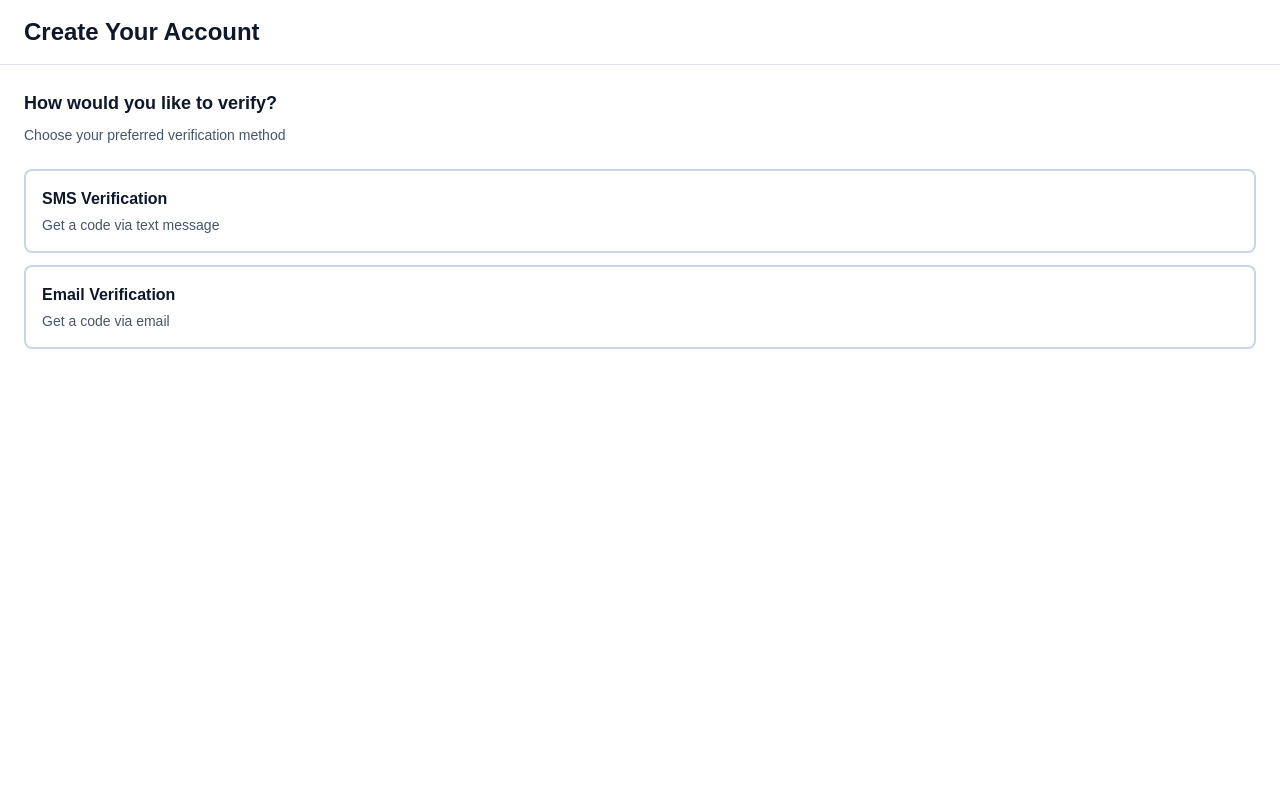
Test: Customer Signup Page › Details Form Step › validates required fields
Click the button "SMS Verification" at (105,198), box [24, 169, 1256, 253]
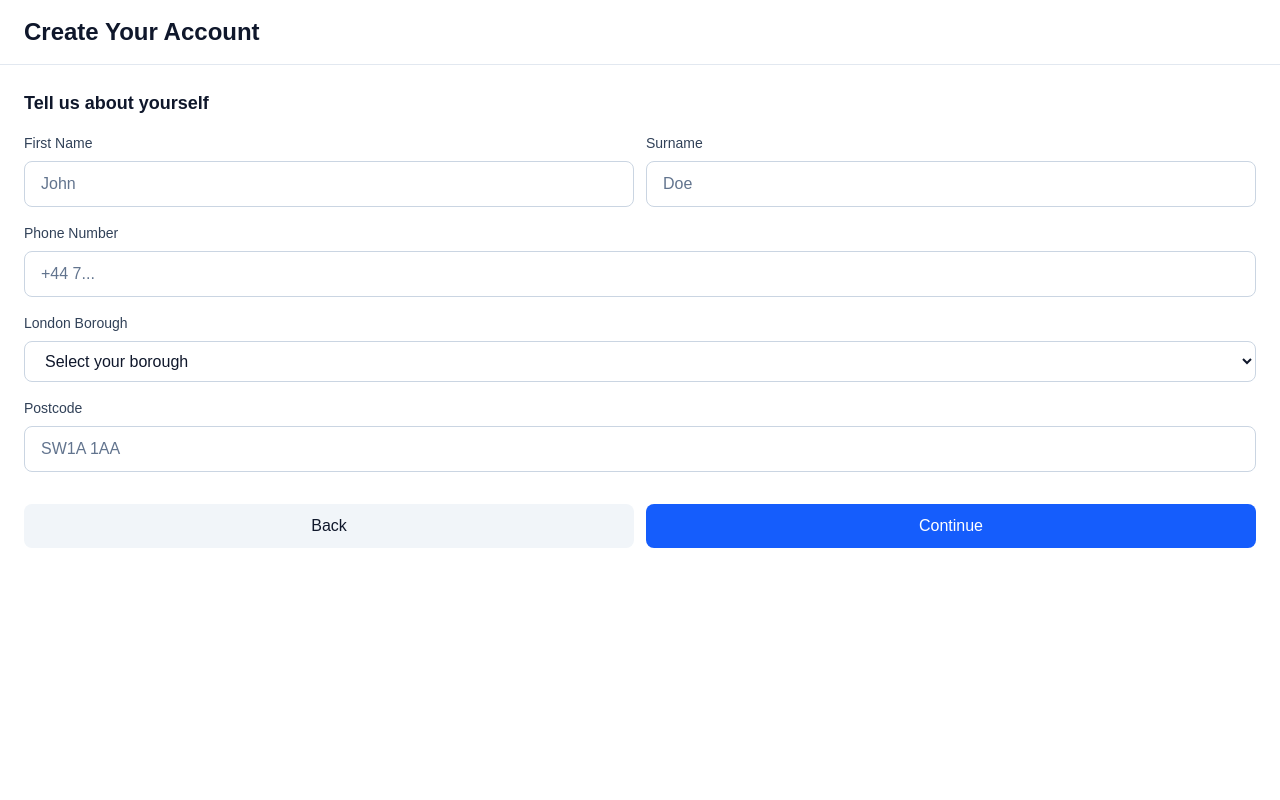
expect the heading "Tell us about yourself" is shown: met, box [24, 93, 209, 113]
Click the button "Continue" at (951,526), box [646, 504, 1256, 548]
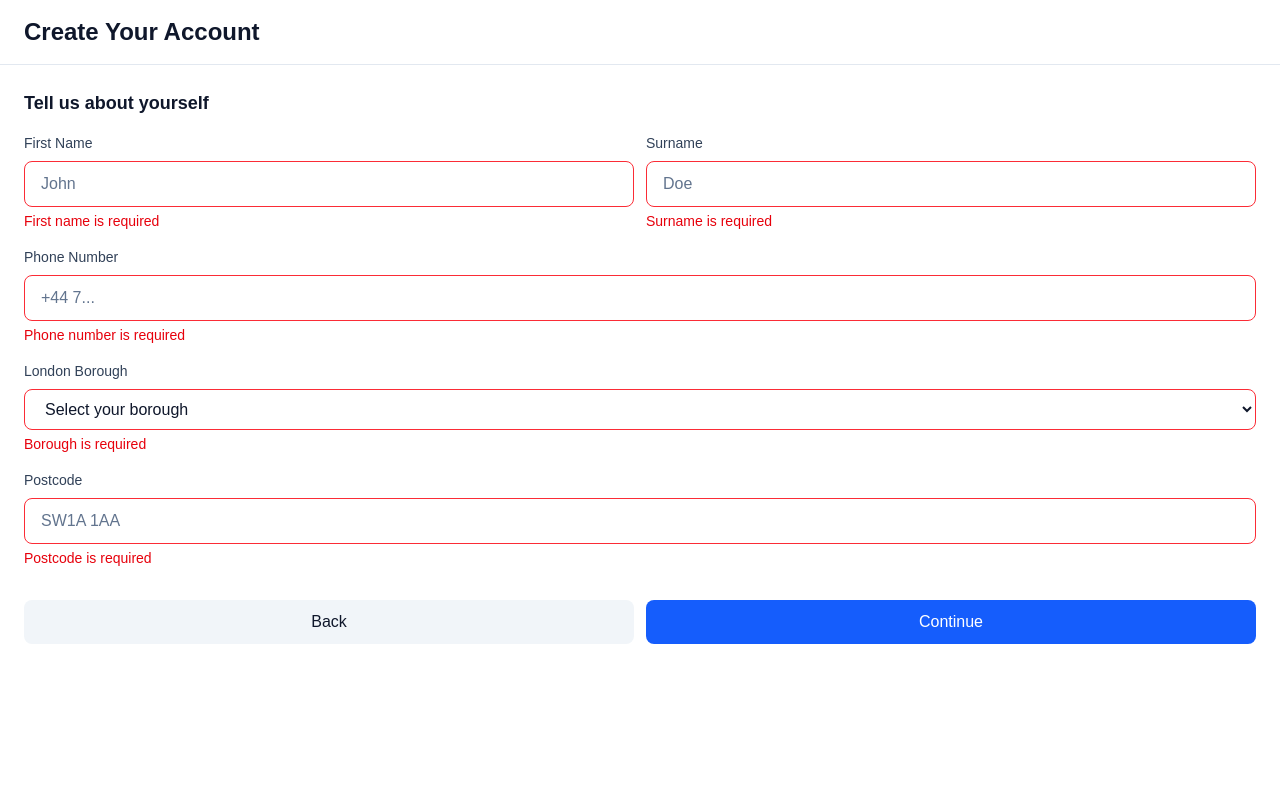
expect the text "First name is required" is shown: met, box [24, 213, 159, 229]
